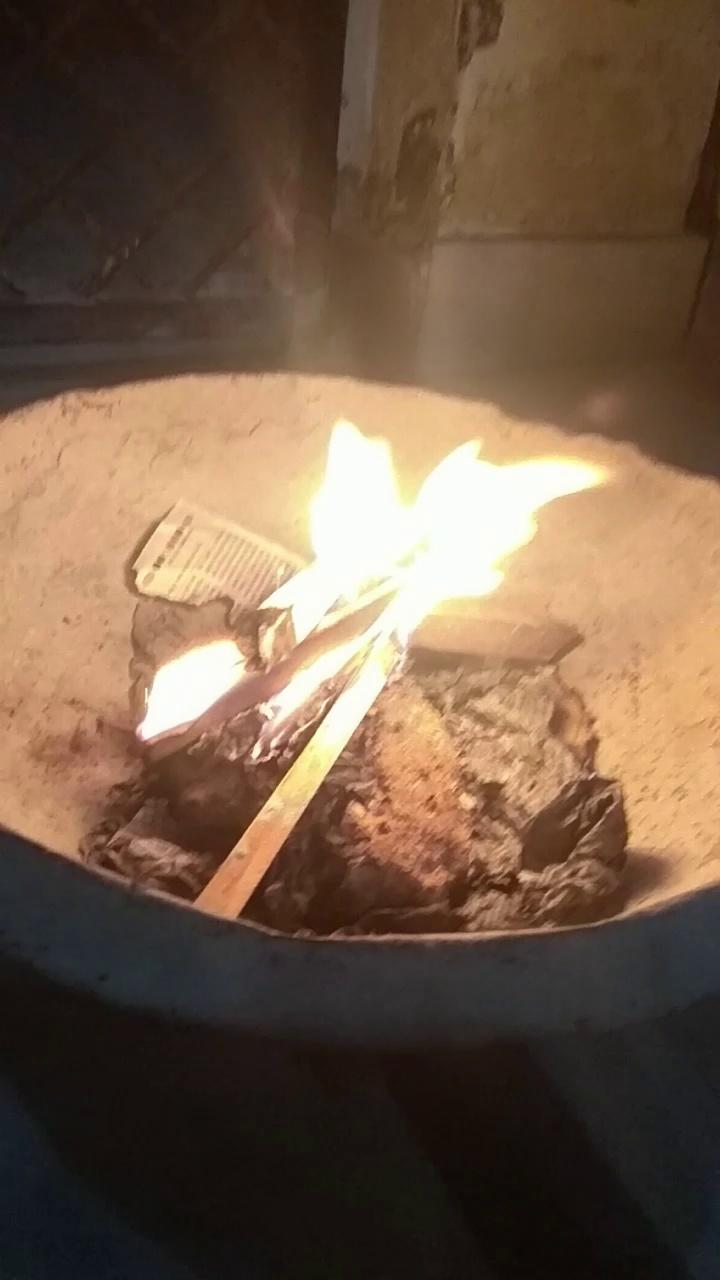fire: (77, 347, 609, 751)
